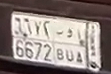2: (44, 19, 52, 62)
6: (24, 17, 35, 58), (15, 16, 25, 57)
7: (35, 20, 44, 60)
A: (76, 28, 85, 63)
B: (56, 27, 66, 61)
U: (65, 27, 76, 62)
